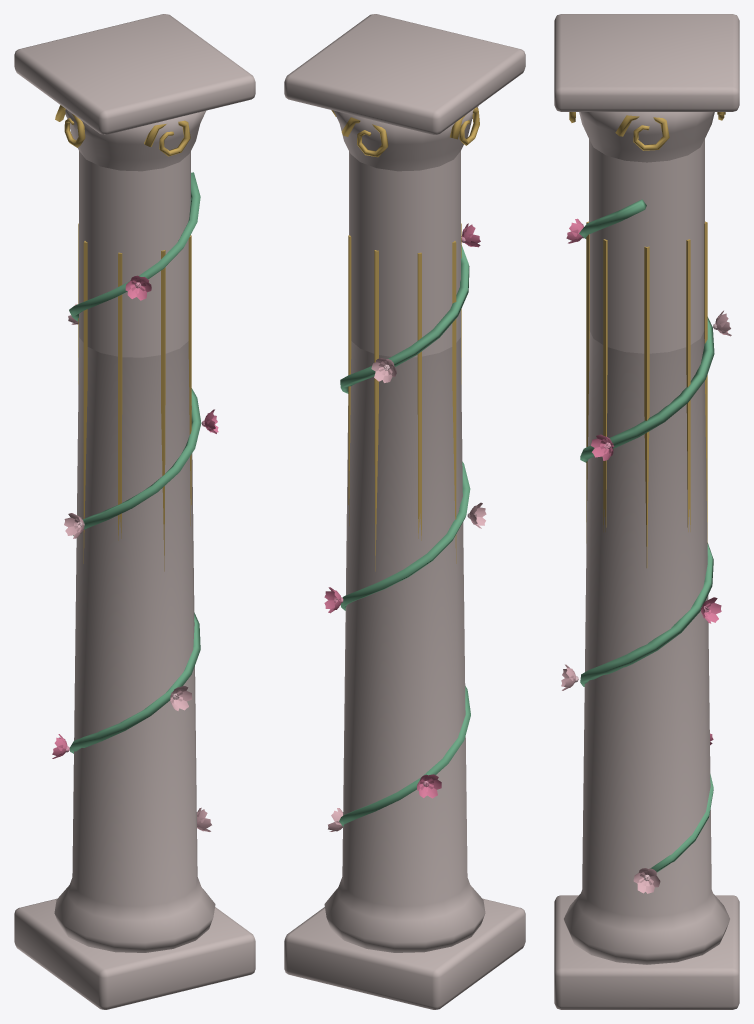
The model's file is column_marble.glb.
3 renders of one model, left to right at view 1: azimuth 30°, elevation 25°; view 2: azimuth 150°, elevation 25°; view 3: azimuth 270°, elevation 25°, orthographic. The views are drawn at different scales.
Parts seen in each view (by area): view 1: column_marble; view 2: column_marble; view 3: column_marble.
Part boxes in pixels (left/top/right/bottom): column_marble: left=14, top=14, right=255, bottom=1009; column_marble: left=284, top=14, right=525, bottom=1009; column_marble: left=554, top=14, right=739, bottom=1009.
Size of what is drawn, in the model's own units: 0.8 by 4.4 by 0.8.
